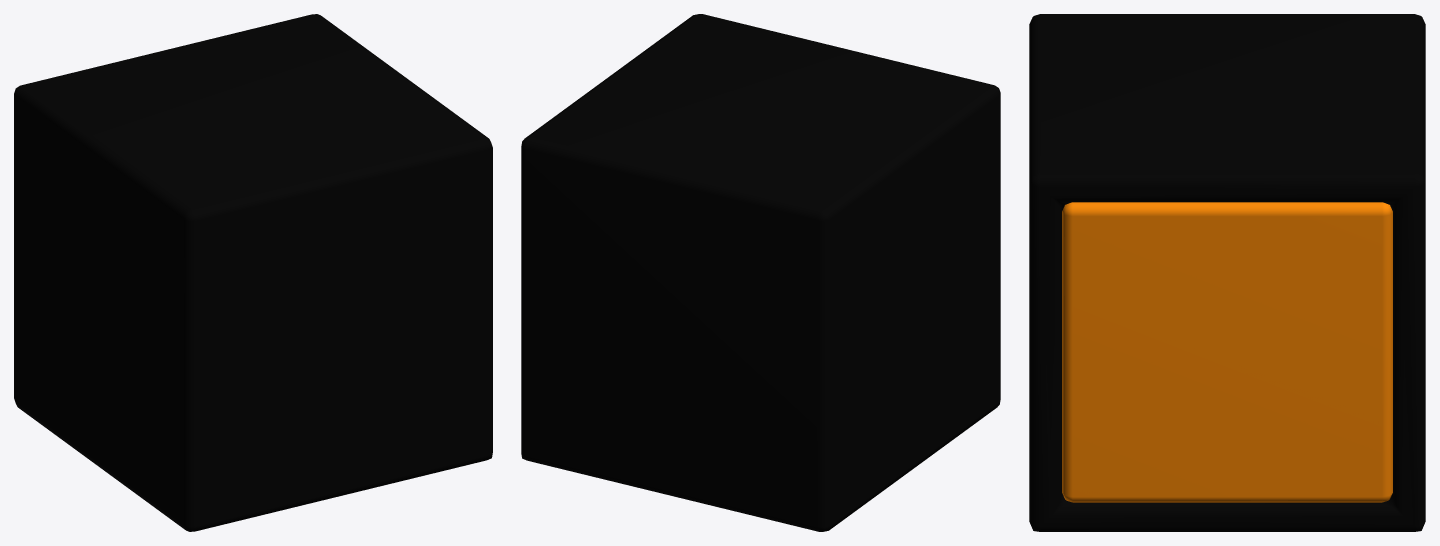
3 renders of one model, left to right at view 1: azimuth 30°, elevation 25°; view 2: azimuth 150°, elevation 25°; view 3: azimuth 270°, elevation 25°, orthographic. The views are drawn at different scales.
Visible parts, largest first — view 1: Cube.016; view 2: Cube.016; view 3: Cube.016.
Part boxes in pixels (box(x1,y1,x2,y2)): Cube.016: box(14, 14, 492, 531); Cube.016: box(521, 14, 1000, 531); Cube.016: box(1029, 14, 1425, 531).
Size of the model in its own units: 2 by 2 by 2.
